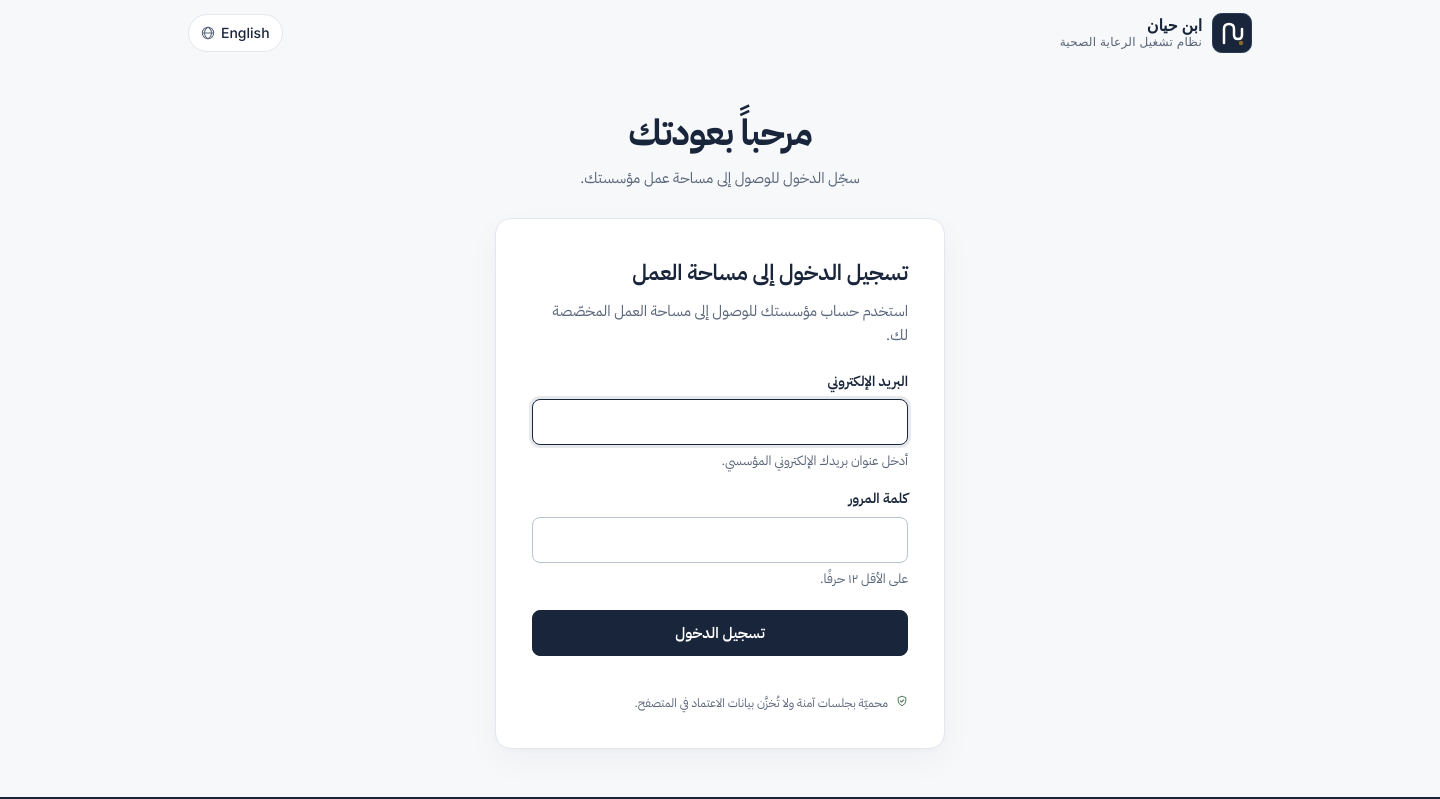
LandingPage › switches to English copy and LTR direction when the language switch is activated
This screenshot has width=1440, height=799.
Expected: the header is shown, [188,13,1252,53]
Click the button "English": point(235, 33) [188,14,283,52]
(page scrolled)
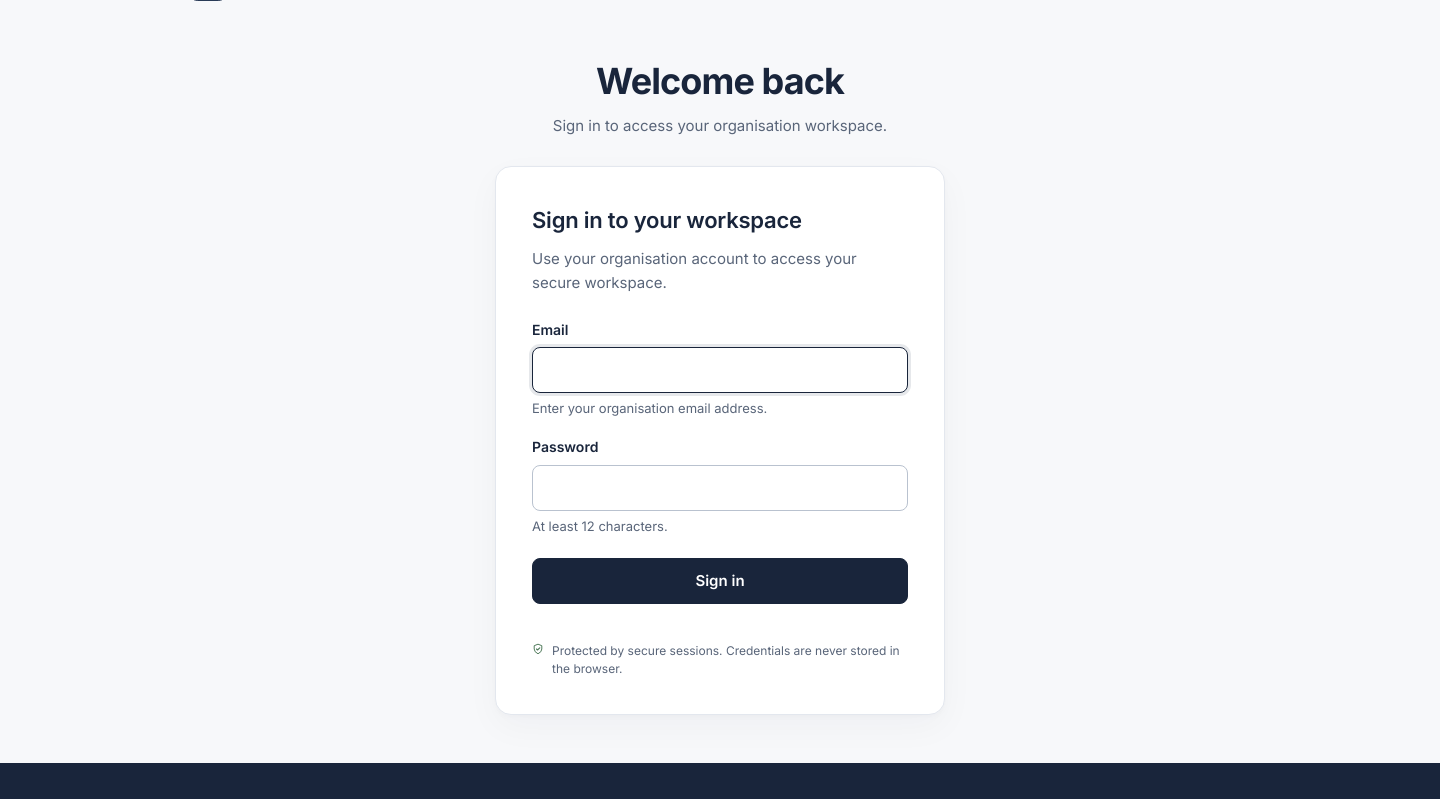
Now the heading "Welcome back" is shown, box [596,57,844,106]
Now the heading "Sign in to your workspace" is shown, box [532,207,802,233]
